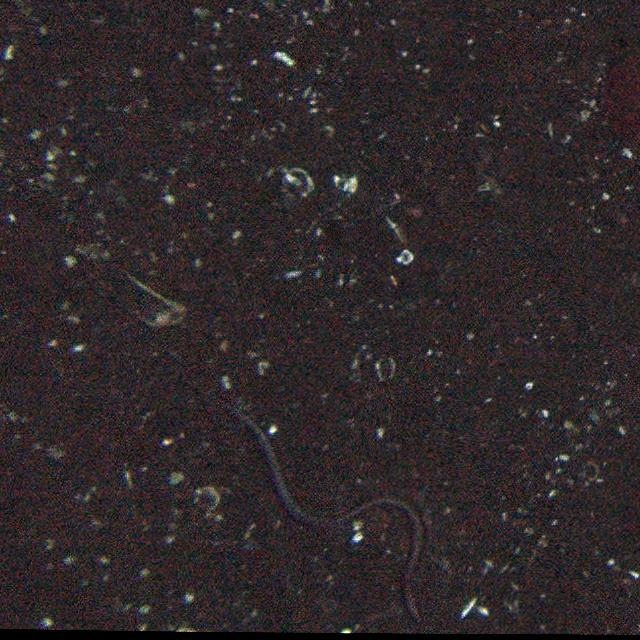eel: (224, 403, 423, 623)
